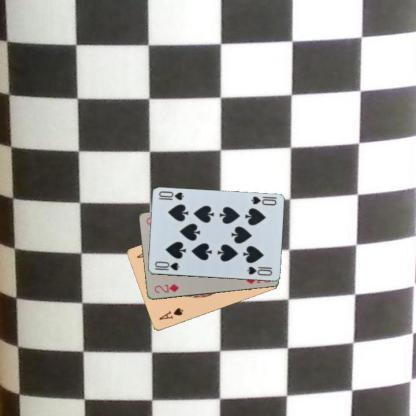10s: (248, 193, 278, 207), (152, 259, 180, 271)
2d: (152, 281, 180, 295)
As: (157, 305, 184, 321)
